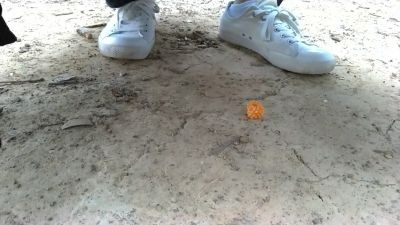eggs: (245, 97, 265, 123)
